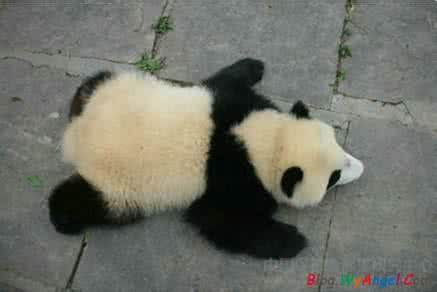panda: (43, 56, 367, 259)
